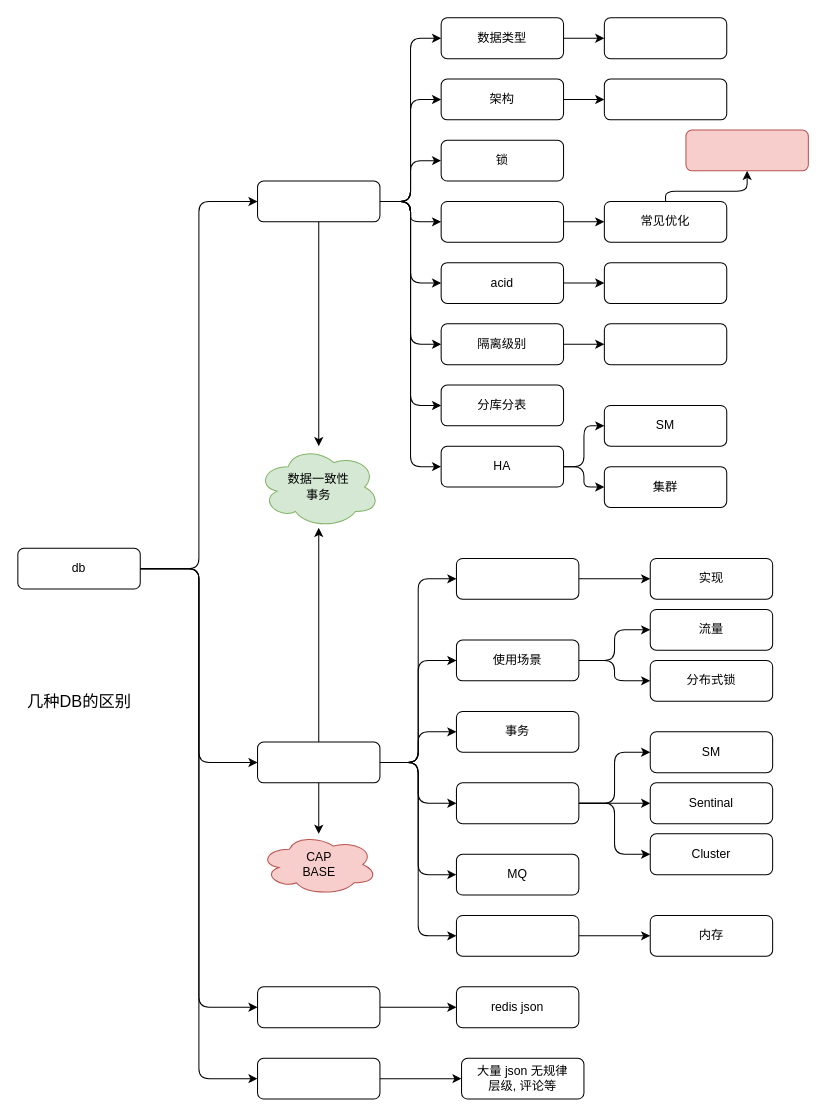
Image size: 826x1117. Some labels were removed from this diagram. The centre of each missing label's shape, as x and y in pixels:
es: the point at 318,1007
HA: 集群: the point at 517,803
mongo: the point at 318,1078
mvvc: the point at 665,344
mysql: the point at 318,201
redis: the point at 318,762
原理: the point at 665,282
基本数据类型: the point at 517,578
执行流程: the point at 665,99
执行计划: the point at 746,150
注意语法: the point at 665,38
相关原理: the point at 517,935
索引: the point at 502,221
